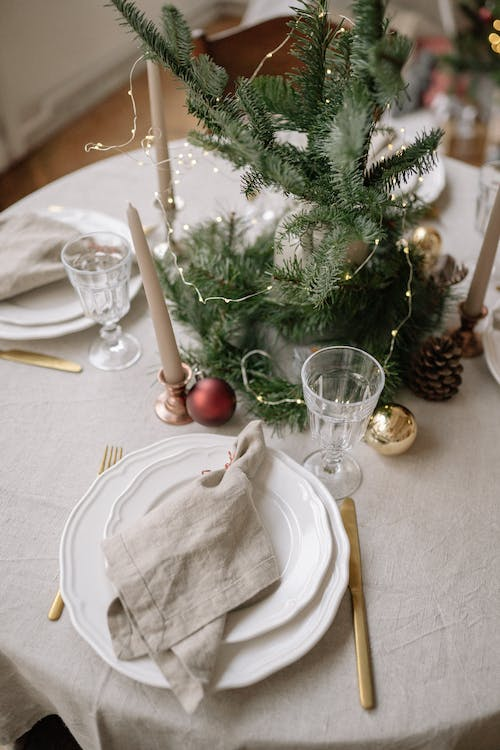knife: (338, 493, 379, 713), (0, 345, 85, 376)
